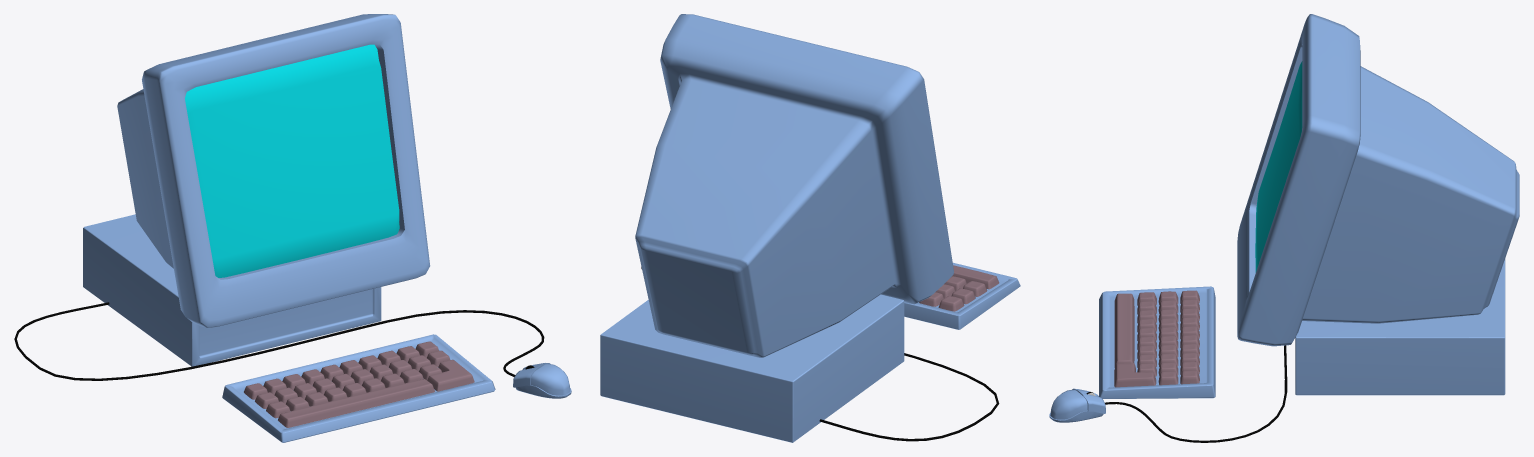
The picture shows the model from 3 angles, left to right: view 1: azimuth 30°, elevation 25°; view 2: azimuth 150°, elevation 25°; view 3: azimuth 270°, elevation 25°; orthographic projection. The views are drawn at different scales.
Visible parts, largest first — view 1: PC; view 2: PC; view 3: PC.
Boxes of the visible parts, box(x1,y1,x2,y2) form: PC: box(14, 14, 571, 442); PC: box(600, 14, 1020, 442); PC: box(1049, 14, 1519, 442).
Size of the model in its own units: 1.15 by 0.7879 by 1.18.
1 material, 1 textured.
